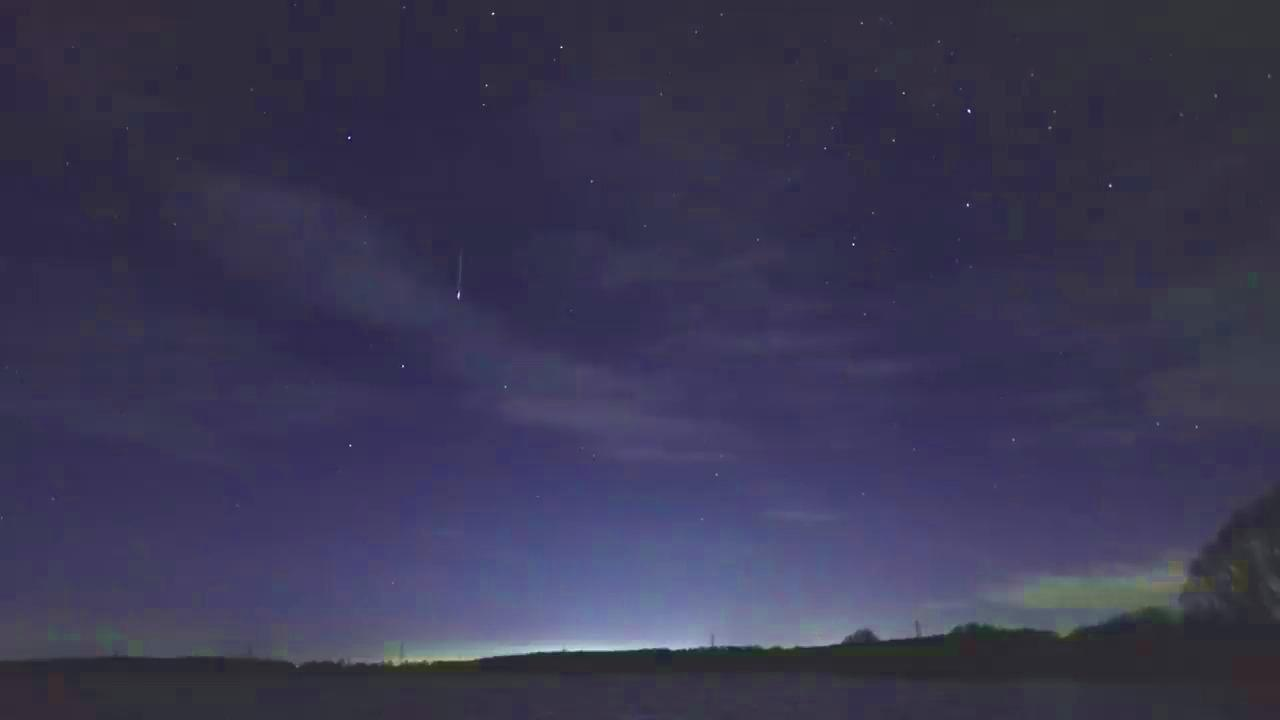meteorite: (422, 250, 494, 307)
